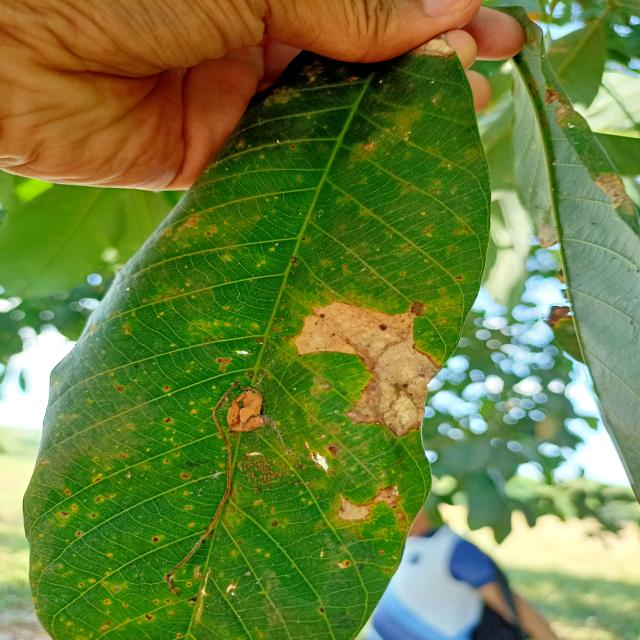Colletotrichum: (270, 520, 278, 527), (238, 541, 242, 545), (92, 513, 96, 517), (230, 308, 233, 312), (172, 491, 174, 493)
Leaf-Blight: (294, 300, 443, 437), (338, 484, 402, 520), (408, 32, 455, 58)
